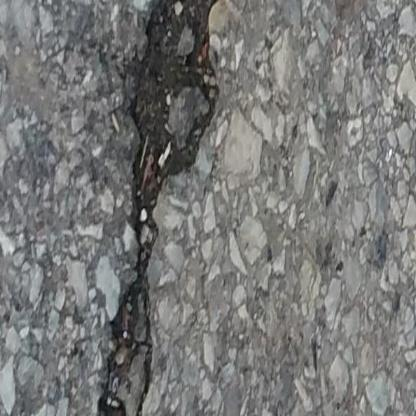Cracks: (98, 0, 240, 416)
